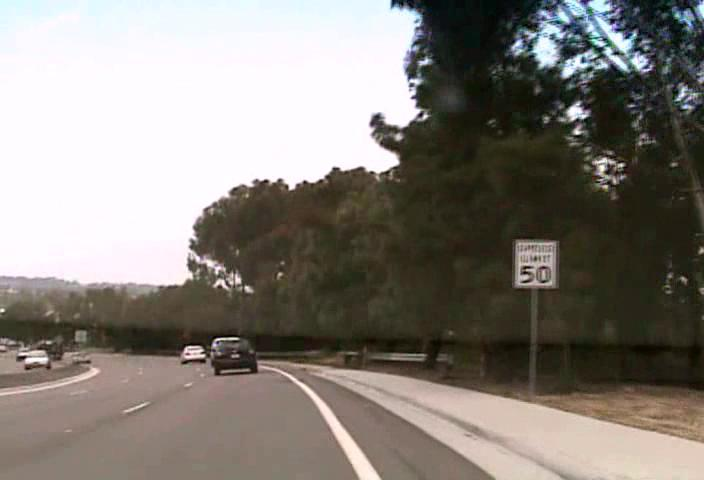speedLimit50: (512, 238, 559, 289)
